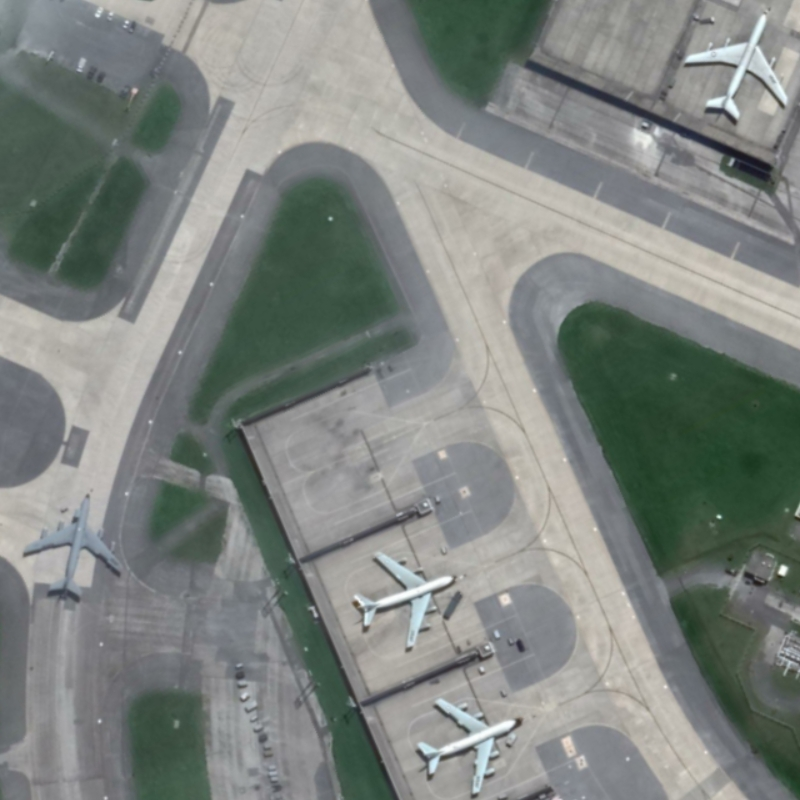A11: (676, 6, 793, 128), (348, 545, 468, 657), (410, 687, 525, 800)
A14: (17, 486, 133, 605)
